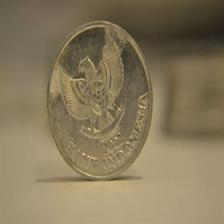coin_50_1999: (43, 19, 154, 182)
